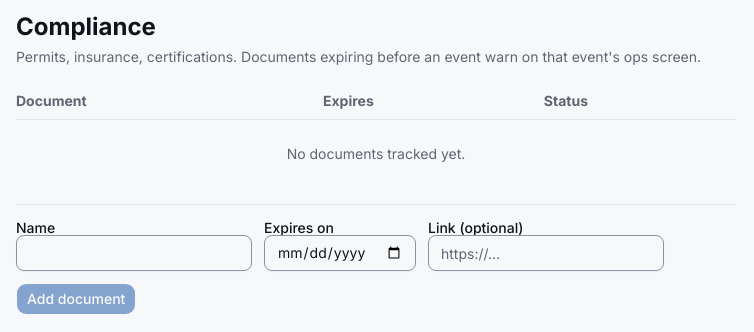
Scenario: ComplianceClient › creates a document
The image size is (754, 332).
Step 1. Type "Fire cert" into the field labelled "Name" → point(134, 253), box [16,235,252,271]
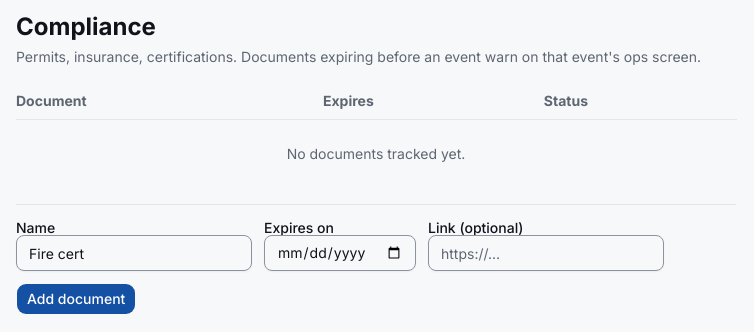
Step 2. Type "2026-12-31" into the date field labelled "Expires on" → point(340, 253), box [264,235,416,271]
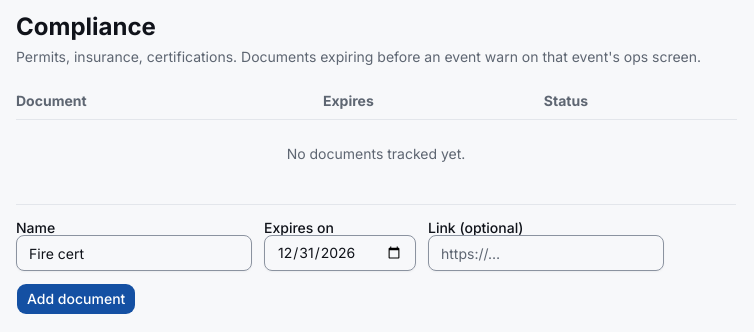
Step 3. Click the button "Add document" → point(76, 299), box [16,283,136,315]
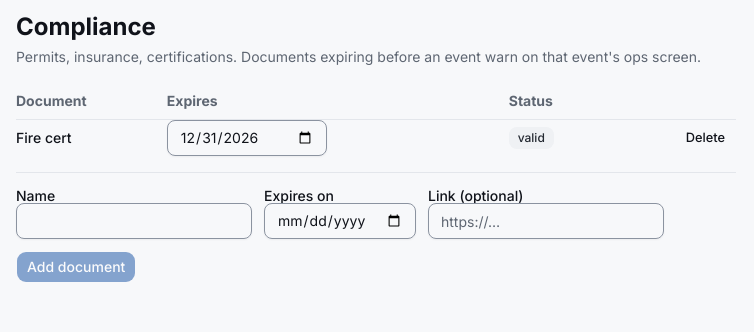
Now the text "Fire cert" is shown, box [16,120,167,156]
